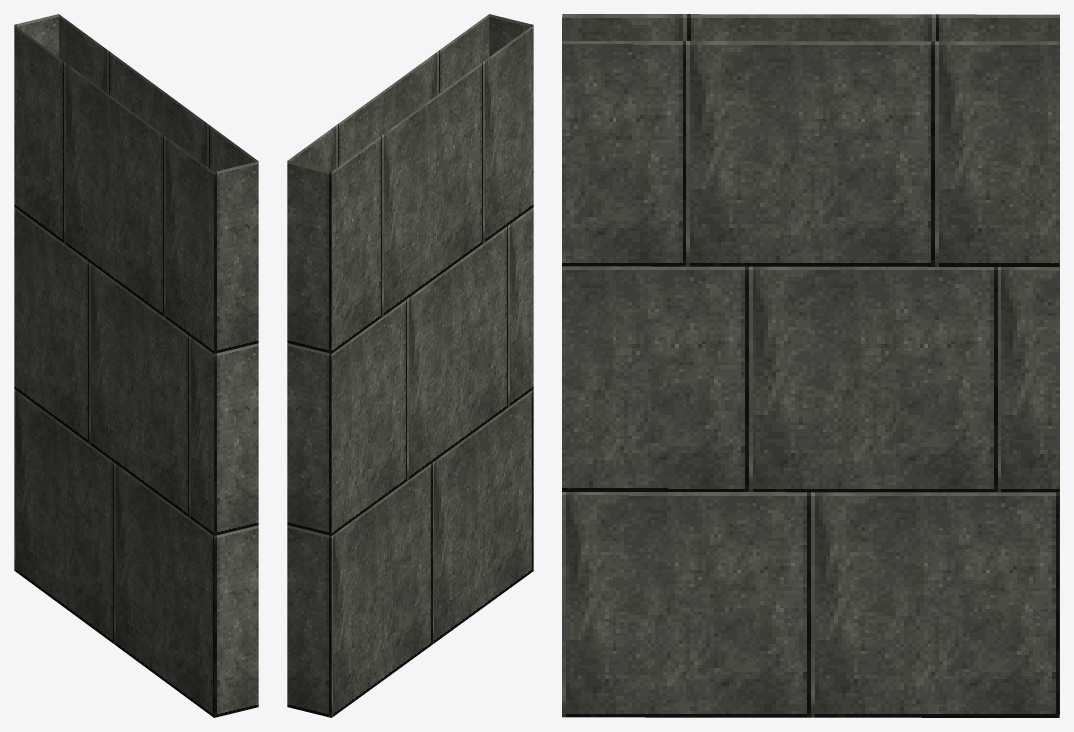
The model's file is primary_088.glb.
The picture shows the model from 3 angles, left to right: view 1: azimuth 30°, elevation 25°; view 2: azimuth 150°, elevation 25°; view 3: azimuth 270°, elevation 25°; orthographic projection. The views are drawn at different scales.
Parts seen in each view (by area): view 1: Object; view 2: Object; view 3: Object.
Part boxes in pixels (x1,y1,x2,y2): Object: (14,14,258,717); Object: (287,14,533,717); Object: (562,14,1059,717).
Size of the model in its own units: 0.4355 by 5 by 3.33.
2 materials, 2 textured.
